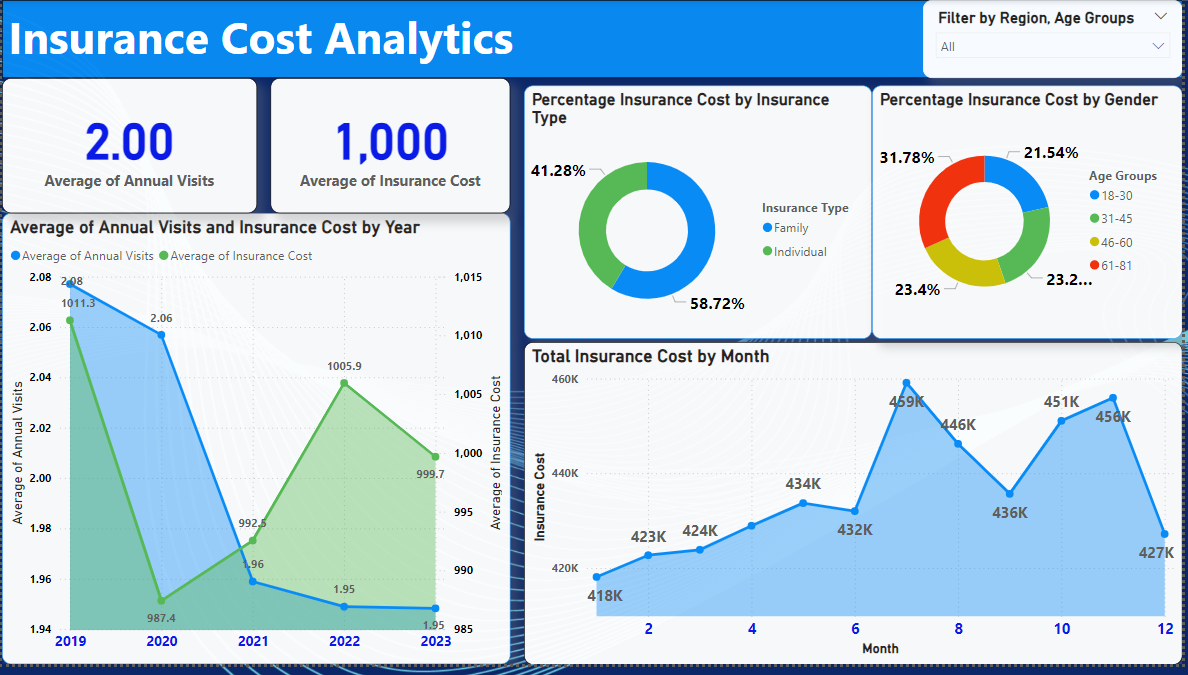

The page's visual inventory and layout, read from the dashboard file:
{"tool":"powerbi","page":{"name":"Insurance Cost","canvas":[1280,720],"ordinal":4},"visuals":[{"type":"areaChart","title":"Average of Annual Visits and Insurance Cost by Year","fields":{"Category":["insurance_data_5237 (2).Year"],"Y":["Avg(insurance_data_5237 (2).Annual Visits)"],"Y2":["Avg(insurance_data_5237 (2).Insurance Cost)"]},"box":[0,231,551.4,489.6],"z":0},{"type":"donutChart","title":"Percentage Insurance Cost by Insurance Type","fields":{"Category":["insurance_data_5237 (2).Insurance Type"],"Y":["Sum(insurance_data_5237 (2).Insurance Cost)"]},"box":[566,92.7,377.4,274.9],"z":1000},{"type":"textbox","box":[0,0,1280.1,84.6],"z":2000},{"type":"card","fields":{"Values":["Avg(insurance_data_5237 (2).Annual Visits)"]},"box":[0,84.6,276.5,146.4],"z":3000},{"type":"card","fields":{"Values":["Avg(insurance_data_5237 (2).Insurance Cost)"]},"box":[291.2,84.6,260.2,146.4],"z":4000},{"type":"slicer","fields":{"Values":["insurance_data_5237 (2).Region","insurance_data_5237 (2).Age Groups"]},"box":[998.7,0,281.4,84.6],"z":5000},{"type":"lineChart","title":"Total Insurance Cost by Month","fields":{"Category":["insurance_data_5237 (2).Month"],"Y":["Sum(insurance_data_5237 (2).Insurance Cost)"]},"box":[566,370.9,714.1,349.7],"z":6000},{"type":"donutChart","title":"Percentage Insurance Cost by Gender","fields":{"Y":["Sum(insurance_data_5237 (2).Insurance Cost)"],"Series":["insurance_data_5237 (2).Age Groups"]},"box":[943.4,92.7,336.7,274.9],"z":7000}]}

Visuals, with their boxes in screenshot pixels (x1, y1, x2, y2), scaled from the page's 1280x720 canvas onto the 1188x675 screenshot:
"Average of Annual Visits and Insurance Cost by Year" areaChart: (0, 217, 512, 674)
"Percentage Insurance Cost by Insurance Type" donutChart: (525, 87, 876, 345)
textbox: (0, 0, 1187, 79)
card - Avg(insurance_data_5237 (2).Annual Visits): (0, 79, 257, 217)
card - Avg(insurance_data_5237 (2).Insurance Cost): (270, 79, 512, 217)
slicer - insurance_data_5237 (2).Region x insurance_data_5237 (2).Age Groups: (927, 0, 1187, 79)
"Total Insurance Cost by Month" lineChart: (525, 348, 1187, 674)
"Percentage Insurance Cost by Gender" donutChart: (876, 87, 1187, 345)
